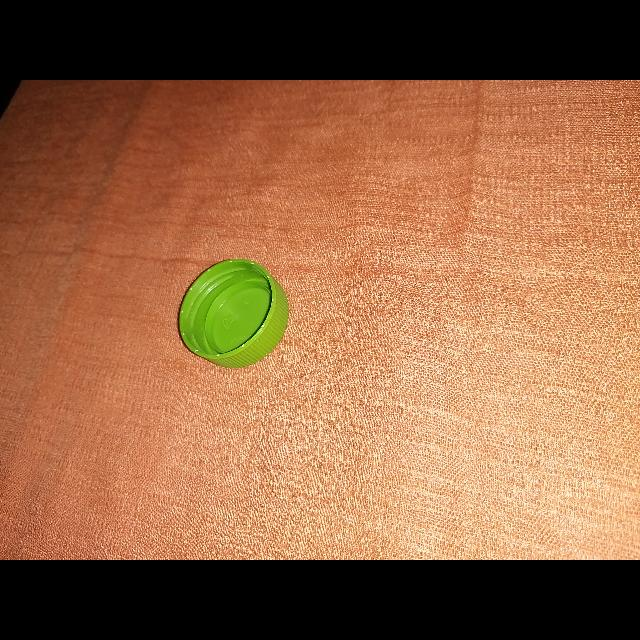plastic_bottle_cap: (178, 258, 290, 369)
